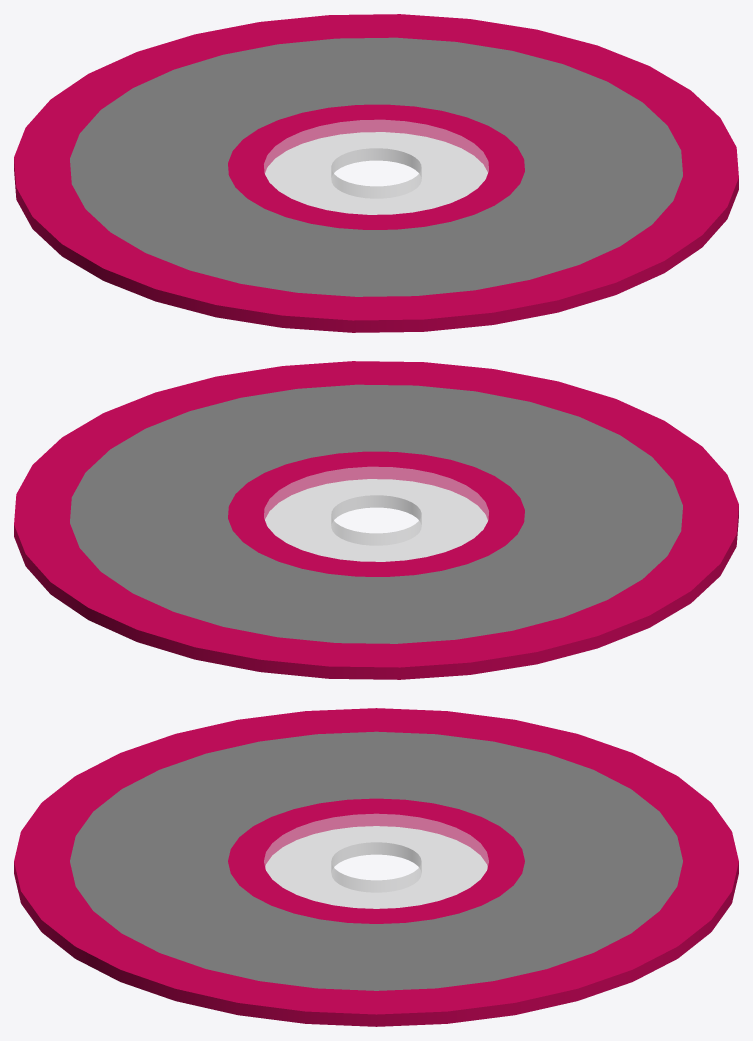
The model's file is powerup.fbx.
3 views of the same model, one above another, from view 1: azimuth 30°, elevation 25°; view 2: azimuth 150°, elevation 25°; view 3: azimuth 270°, elevation 25° (orthographic).
Visible parts, largest first — view 1: Cylinder; view 2: Cylinder; view 3: Cylinder.
Boxes of the visible parts, x1,y1,x2,y2 form: Cylinder: (14,14,738,332); Cylinder: (14,361,738,679); Cylinder: (14,708,738,1026).
Bounding box in the file's own units: 4.05 × 0.076 × 4.05.
